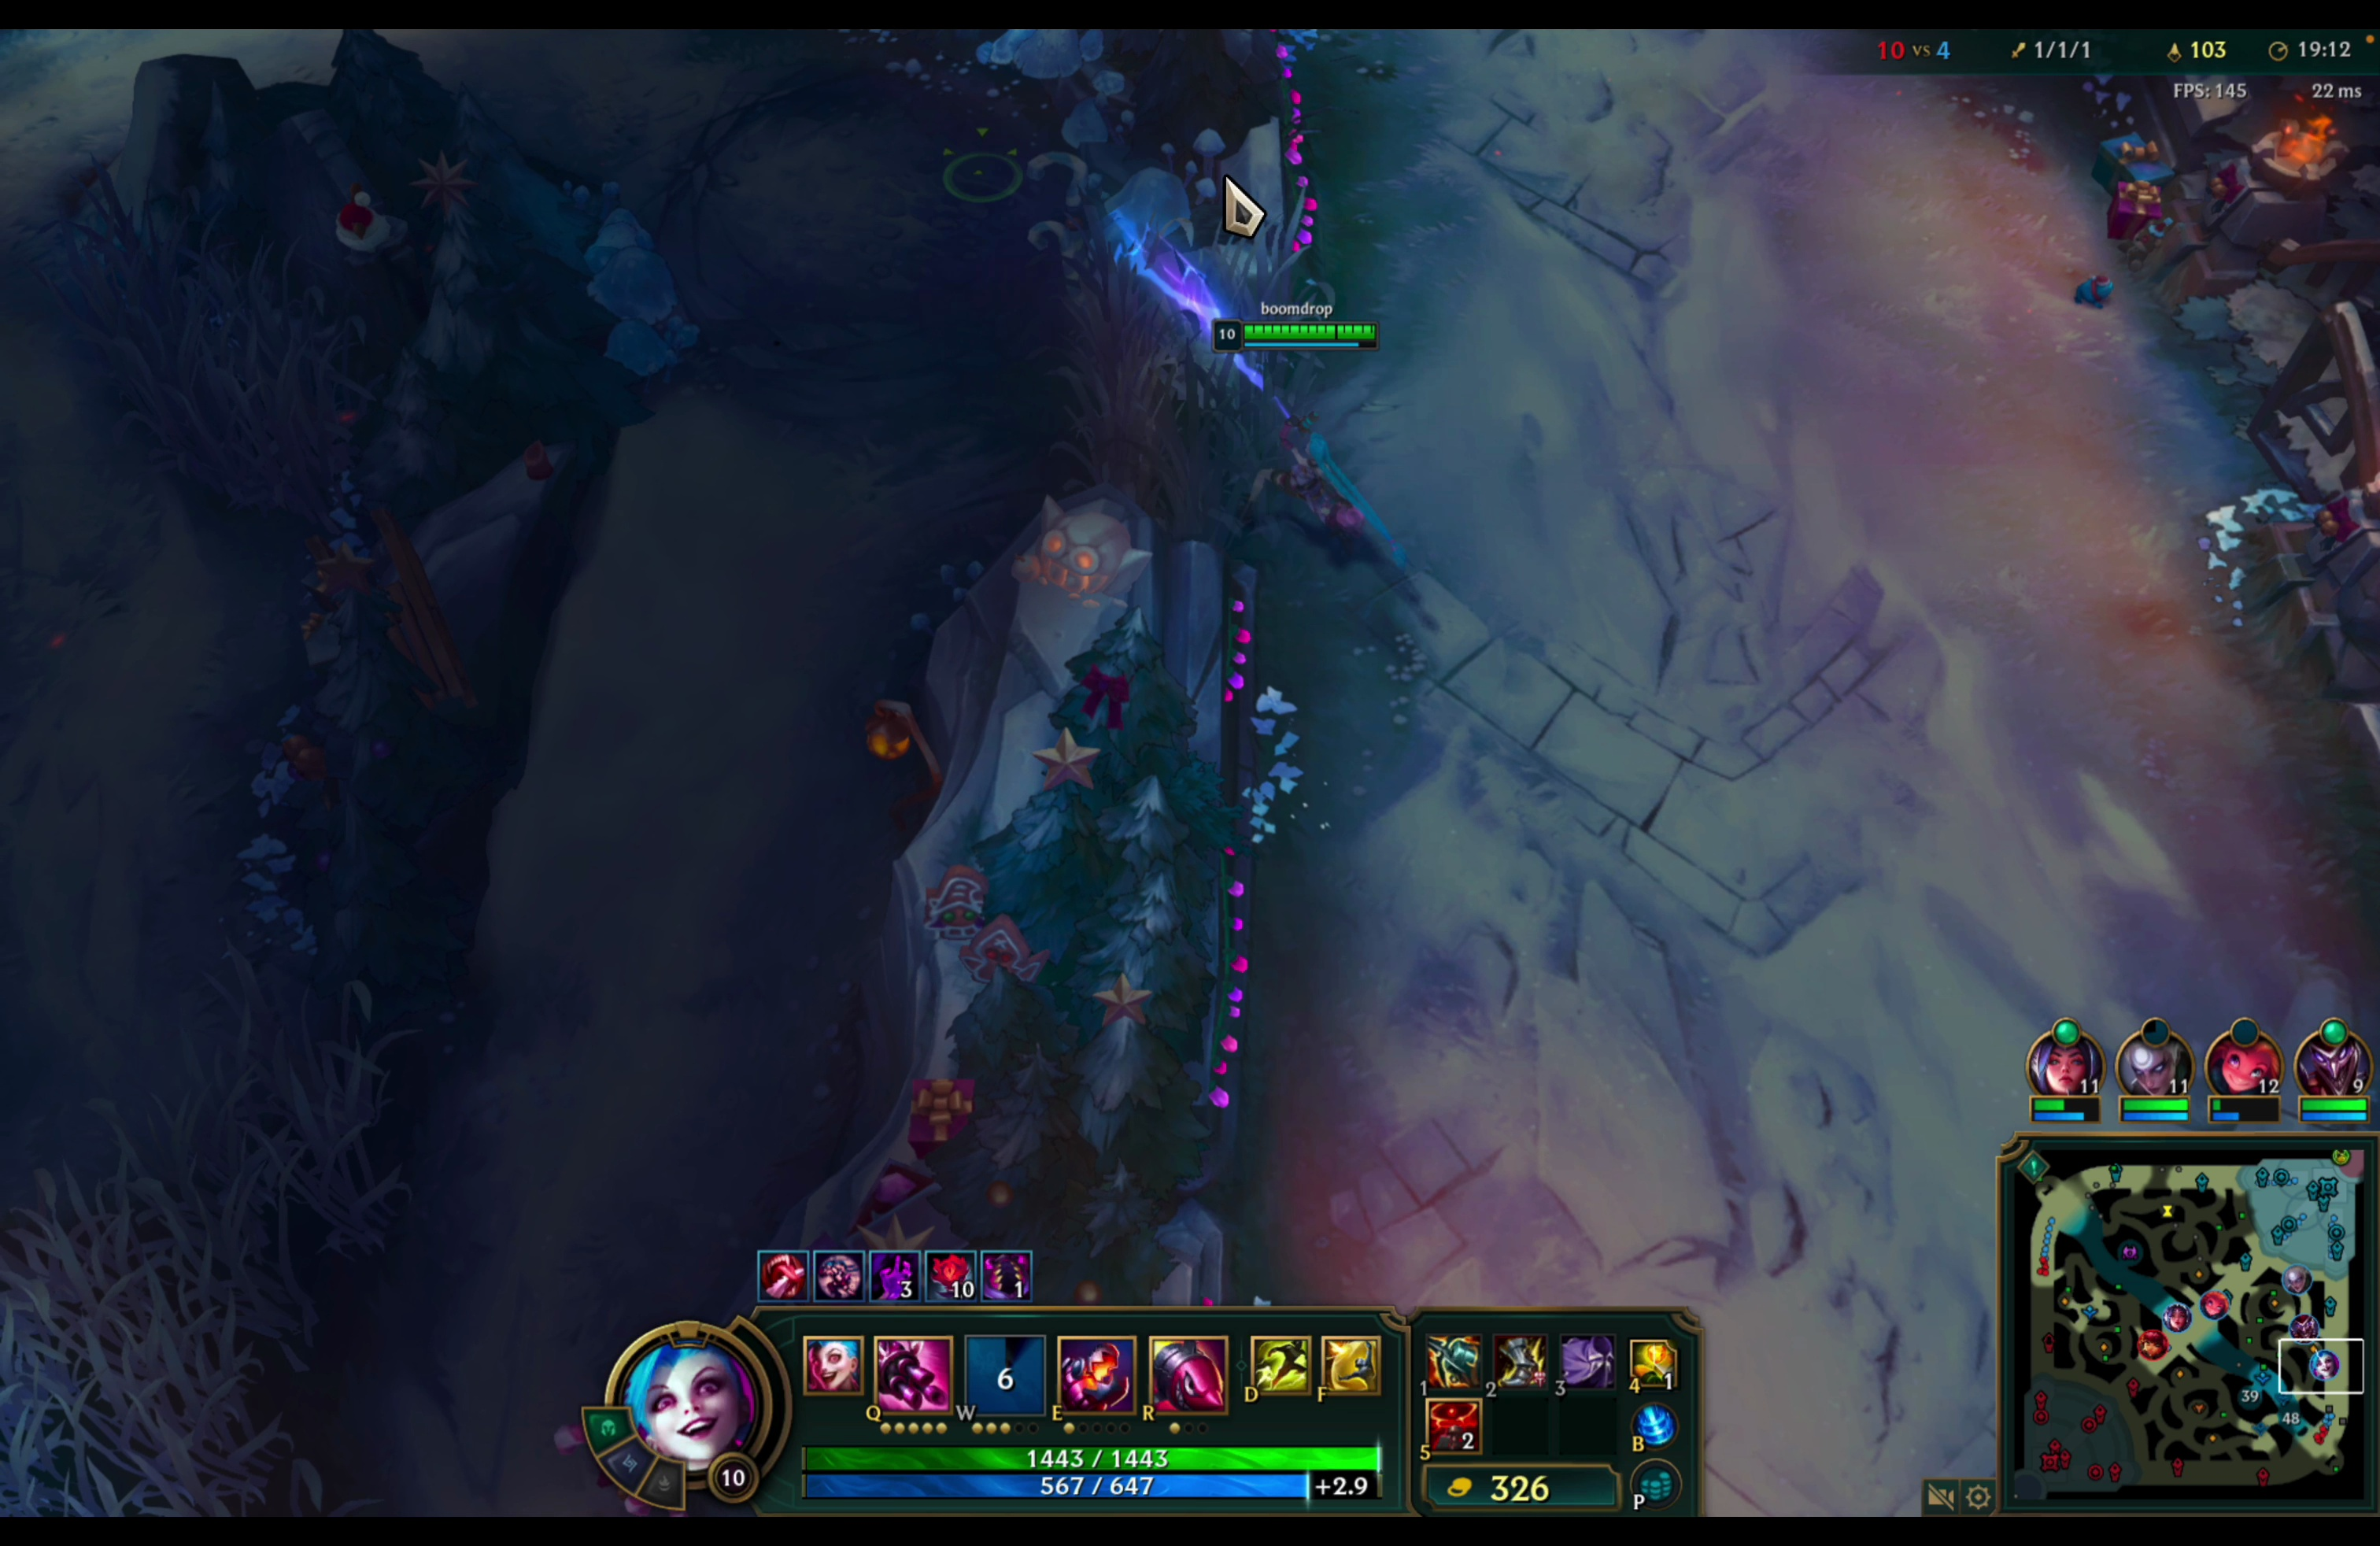JINX_W_PROJECTILE: (1098, 203, 1405, 573)
